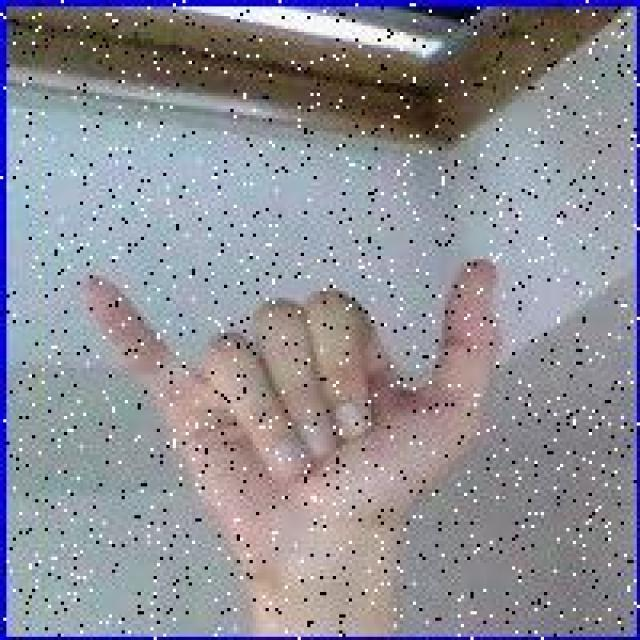Y: (82, 256, 510, 509)
